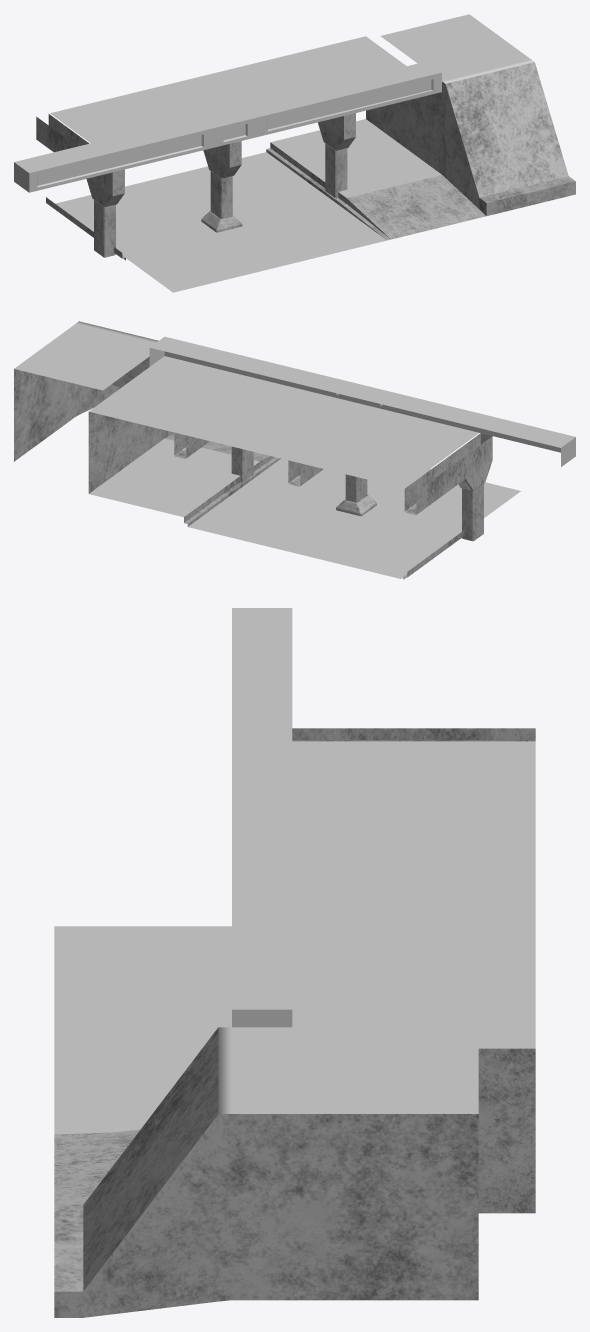
File: Tunnel Model 1.fbx
The picture shows the model from 3 angles, top to bottom: view 1: azimuth 30°, elevation 25°; view 2: azimuth 150°, elevation 25°; view 3: azimuth 270°, elevation 25°; orthographic projection. The views are drawn at different scales.
Parts seen in each view (by area): view 1: Roof_Road, Side_Boundry, Start_Border, Road_Connecter, polySurface2, Connector, polySurface3, polySurface6, polySurface1, polySurface7, Pillar_center; view 2: Roof_Road, Side_Boundry, Start_Border, polySurface3, polySurface2, polySurface6, polySurface1, Road_Connecter, polySurface7, Pillar_center, Connector; view 3: Side_Boundry, Roof_Road, Road_Connecter, Start_Border, polySurface3, polySurface1, Connector, polySurface6.
Boxes of the visible parts, left/top/right/bottom form: Roof_Road: left=50, top=60, right=342, bottom=259; Side_Boundry: left=380, top=14, right=575, bottom=215; Start_Border: left=14, top=61, right=441, bottom=192; Road_Connecter: left=129, top=208, right=386, bottom=292; polySurface2: left=271, top=119, right=441, bottom=197; Connector: left=342, top=175, right=486, bottom=240; polySurface3: left=269, top=36, right=406, bottom=89; polySurface6: left=36, top=114, right=125, bottom=260; polySurface1: left=366, top=92, right=441, bottom=174; polySurface7: left=266, top=113, right=355, bottom=207; Pillar_center: left=201, top=141, right=242, bottom=232; Roof_Road: left=185, top=379, right=478, bottom=578; Side_Boundry: left=14, top=321, right=174, bottom=461; Start_Border: left=149, top=336, right=575, bottom=466; polySurface3: left=89, top=356, right=260, bottom=434; polySurface2: left=89, top=438, right=259, bottom=517; polySurface6: left=403, top=433, right=492, bottom=579; polySurface1: left=88, top=412, right=164, bottom=493; Road_Connecter: left=264, top=458, right=520, bottom=519; polySurface7: left=174, top=432, right=263, bottom=526; Pillar_center: left=288, top=460, right=376, bottom=516; Connector: left=165, top=433, right=280, bottom=470; Side_Boundry: left=54, top=1027, right=478, bottom=1317; Roof_Road: left=292, top=741, right=535, bottom=954; Road_Connecter: left=54, top=926, right=231, bottom=1134; Start_Border: left=232, top=608, right=292, bottom=1027; polySurface3: left=292, top=954, right=535, bottom=1048; polySurface1: left=478, top=1048, right=535, bottom=1213; Connector: left=54, top=1129, right=139, bottom=1204; polySurface6: left=292, top=728, right=535, bottom=741.
Bounding box in the file's own units: 2530 × 535 × 1054.
